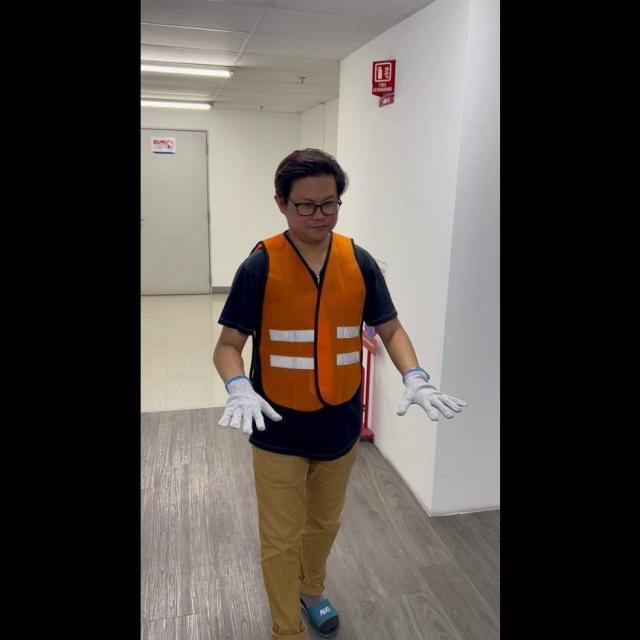gloved_hand: (394, 363, 464, 424), (216, 371, 280, 436)
